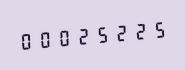five: (93, 19, 111, 48), (150, 14, 168, 43)
two: (74, 21, 92, 49), (112, 18, 130, 46), (131, 16, 149, 44)
zero: (36, 24, 54, 53), (17, 26, 35, 54), (55, 23, 73, 51)
